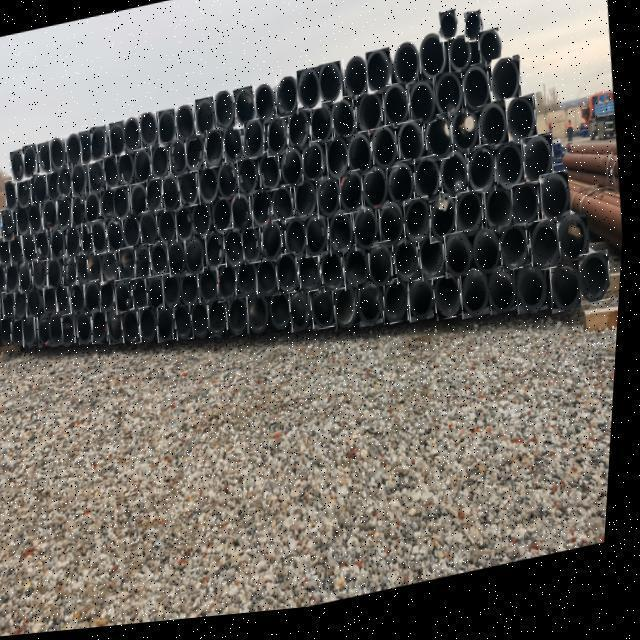pipe: (581, 262, 615, 317), (531, 228, 565, 283), (439, 156, 473, 209), (519, 271, 552, 325), (507, 104, 540, 156), (554, 270, 585, 325), (479, 110, 511, 162), (501, 233, 534, 282), (561, 224, 592, 276), (462, 72, 493, 124), (496, 150, 527, 202), (543, 181, 573, 234), (464, 275, 494, 328), (491, 274, 521, 325), (487, 193, 517, 244), (436, 279, 466, 329), (452, 115, 482, 165), (425, 121, 455, 171), (526, 144, 555, 195), (419, 39, 447, 91), (476, 235, 505, 285), (395, 244, 424, 293), (493, 66, 521, 116), (421, 240, 449, 290), (436, 79, 465, 127), (383, 90, 412, 138), (470, 155, 497, 206), (363, 172, 392, 219), (372, 132, 401, 179), (390, 167, 417, 217), (515, 192, 543, 240), (433, 200, 459, 251), (448, 239, 475, 288), (410, 87, 438, 134), (331, 102, 359, 149), (347, 138, 375, 185), (399, 127, 427, 173), (411, 281, 437, 330), (417, 164, 443, 213), (330, 216, 357, 263), (460, 199, 486, 247), (394, 48, 420, 96), (407, 205, 433, 253), (346, 250, 372, 298), (381, 208, 407, 255), (313, 292, 340, 337), (366, 55, 392, 101), (358, 98, 384, 144), (337, 290, 363, 336), (356, 212, 382, 258), (318, 180, 344, 226), (322, 255, 349, 299), (344, 62, 369, 109), (362, 287, 386, 334), (388, 285, 412, 332), (373, 248, 396, 296), (297, 74, 322, 118), (278, 257, 303, 301), (259, 154, 284, 198), (272, 190, 298, 232), (327, 142, 351, 187), (300, 257, 325, 300), (319, 68, 344, 111), (234, 90, 258, 134), (292, 293, 315, 338), (342, 177, 365, 222), (272, 294, 295, 339), (258, 261, 282, 304), (288, 222, 311, 266), (478, 37, 503, 77), (309, 219, 331, 264), (223, 126, 246, 169), (312, 108, 335, 151), (282, 152, 305, 195), (448, 43, 472, 84), (225, 230, 248, 272), (244, 227, 266, 270), (296, 185, 319, 226), (195, 101, 217, 143), (251, 296, 272, 340), (304, 147, 325, 190), (176, 106, 198, 147), (239, 161, 260, 203), (256, 88, 277, 130), (201, 269, 223, 309), (180, 172, 202, 212), (215, 94, 237, 134), (233, 196, 255, 236), (200, 168, 221, 209), (290, 115, 311, 156), (278, 81, 298, 124), (177, 305, 198, 345), (219, 164, 240, 204), (265, 225, 285, 267), (232, 299, 252, 341), (141, 213, 163, 251), (214, 199, 234, 240), (139, 113, 160, 152), (152, 244, 173, 283), (270, 119, 289, 162), (170, 241, 190, 281), (177, 206, 197, 246), (212, 302, 232, 342), (240, 263, 260, 303), (255, 193, 275, 233), (246, 124, 266, 164), (194, 204, 215, 242), (187, 239, 206, 279), (170, 142, 190, 180), (159, 111, 178, 150), (208, 235, 227, 274), (160, 210, 179, 249), (125, 311, 145, 348), (183, 273, 203, 310), (195, 302, 213, 343), (165, 274, 184, 312), (108, 219, 128, 255), (222, 267, 240, 307), (118, 153, 137, 190), (135, 150, 154, 187), (114, 187, 133, 224), (187, 139, 206, 176), (109, 310, 128, 346), (124, 119, 142, 157), (126, 216, 144, 254), (164, 177, 182, 215), (103, 250, 121, 287), (89, 159, 107, 196), (154, 145, 171, 184), (208, 133, 225, 172), (439, 18, 459, 51), (104, 157, 122, 193), (110, 123, 127, 161), (72, 282, 90, 317), (66, 134, 84, 169), (134, 279, 152, 314), (122, 249, 139, 286), (118, 280, 135, 317), (58, 165, 75, 201), (132, 185, 149, 221), (93, 221, 110, 257), (143, 309, 160, 345), (161, 308, 177, 346), (38, 141, 55, 176), (80, 311, 97, 345), (11, 149, 28, 183), (88, 252, 104, 288), (149, 181, 164, 219), (44, 198, 61, 231), (88, 281, 104, 316), (51, 137, 67, 172), (151, 278, 167, 313), (139, 247, 154, 284), (37, 229, 53, 263), (96, 310, 111, 346), (81, 131, 96, 167), (11, 234, 27, 267), (24, 231, 40, 264), (30, 202, 46, 235), (52, 313, 67, 348), (77, 252, 92, 287), (53, 226, 68, 261), (73, 163, 88, 198), (88, 192, 103, 227), (93, 128, 108, 163), (20, 260, 35, 294), (103, 191, 118, 225), (25, 315, 40, 348), (0, 235, 15, 268), (19, 176, 34, 209), (75, 194, 89, 229), (59, 283, 74, 315), (69, 225, 83, 259), (3, 208, 17, 242), (466, 21, 481, 52), (36, 258, 50, 291), (51, 257, 65, 290), (60, 199, 74, 232), (36, 172, 50, 205), (42, 313, 55, 348), (66, 314, 79, 349), (18, 206, 33, 236), (66, 254, 79, 288), (26, 145, 39, 179), (49, 169, 62, 203), (5, 290, 18, 323), (48, 285, 61, 317), (105, 282, 118, 314), (32, 287, 45, 318), (9, 262, 22, 293), (7, 180, 20, 211), (19, 288, 31, 321), (84, 223, 96, 256), (16, 317, 28, 348), (5, 318, 16, 345), (0, 263, 9, 293), (0, 291, 5, 321)
